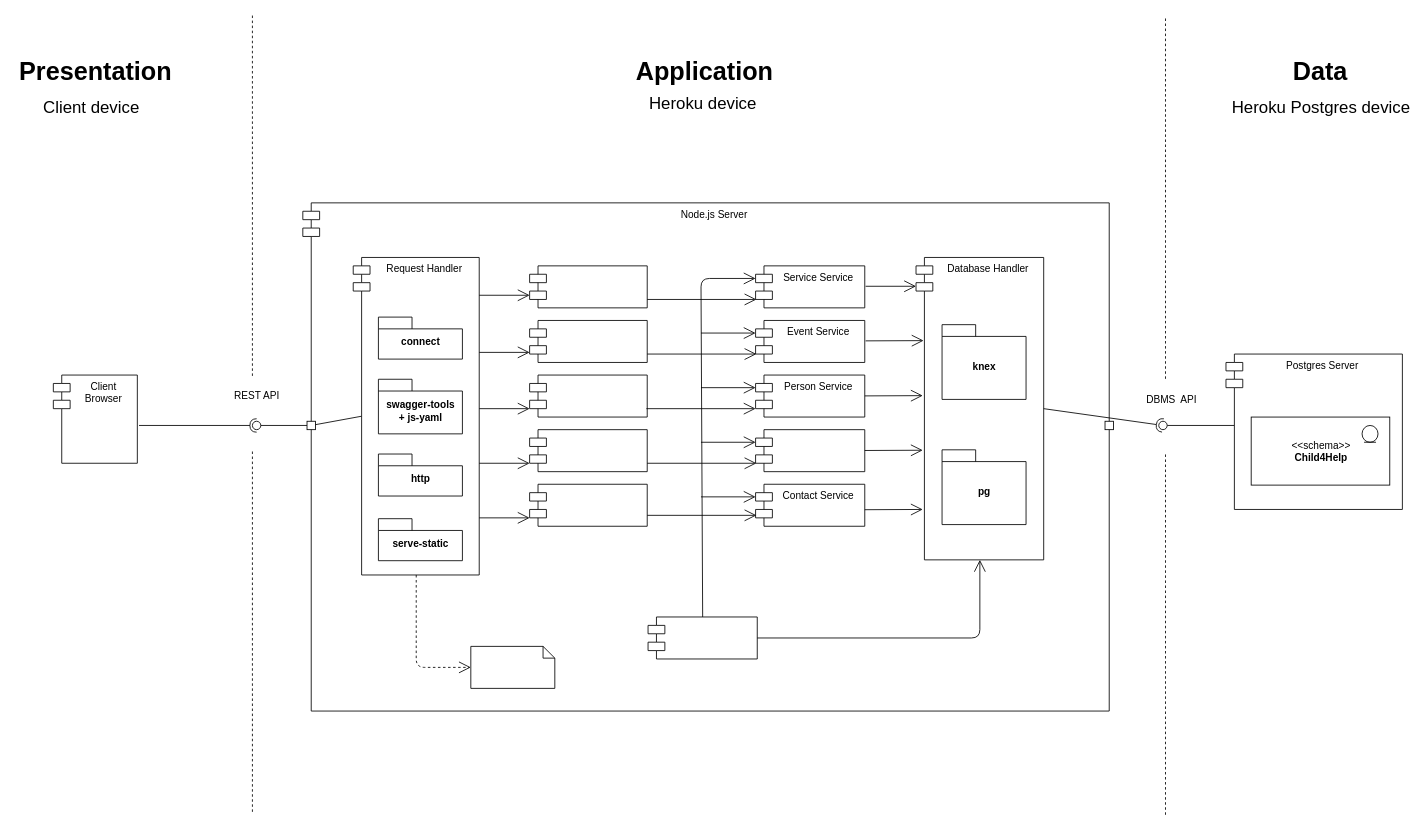
Image size: 1428x831. Some labels were removed from this diagram. The shapes that lost their labels are listed below. From the top down, each one's centre as x and y in pixels, then its label:
At (x=588, y=286): "Service Controller".
At (x=588, y=341): "Event Controller".
At (x=588, y=395): "Person Controller".
At (x=588, y=450): "Article Controller".
At (x=810, y=450): "Article Service".
At (x=588, y=504): "Contact Controller".
At (x=702, y=637): "Data Layer".
At (x=512, y=667): "Static Assets".
